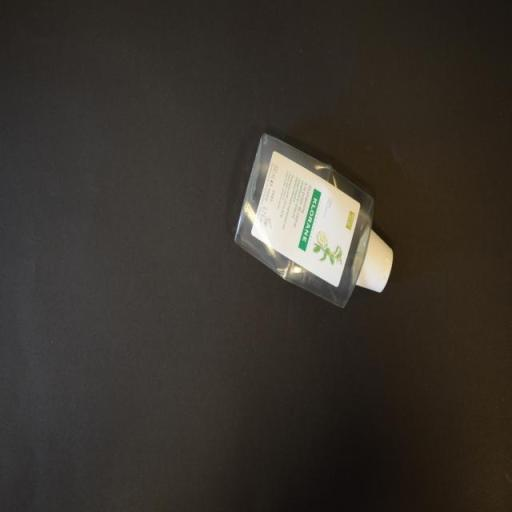plastic: (233, 130, 396, 309)
